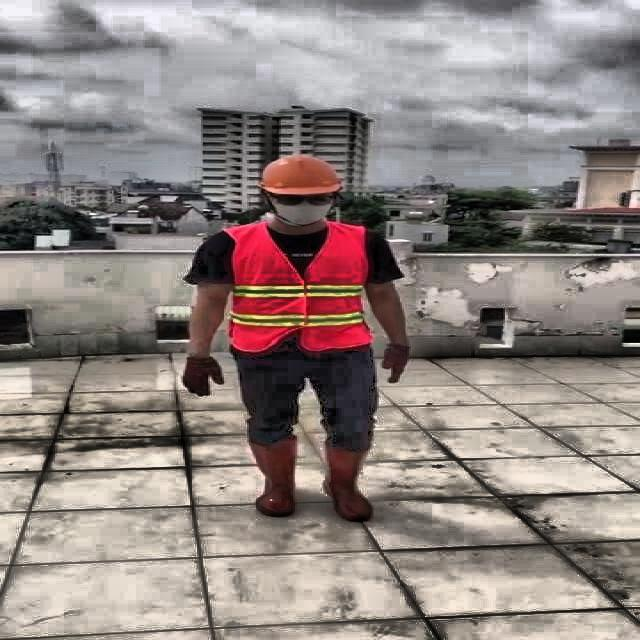safety_helmet: (260, 152, 344, 196)
safety_jacket: (220, 223, 370, 349)
